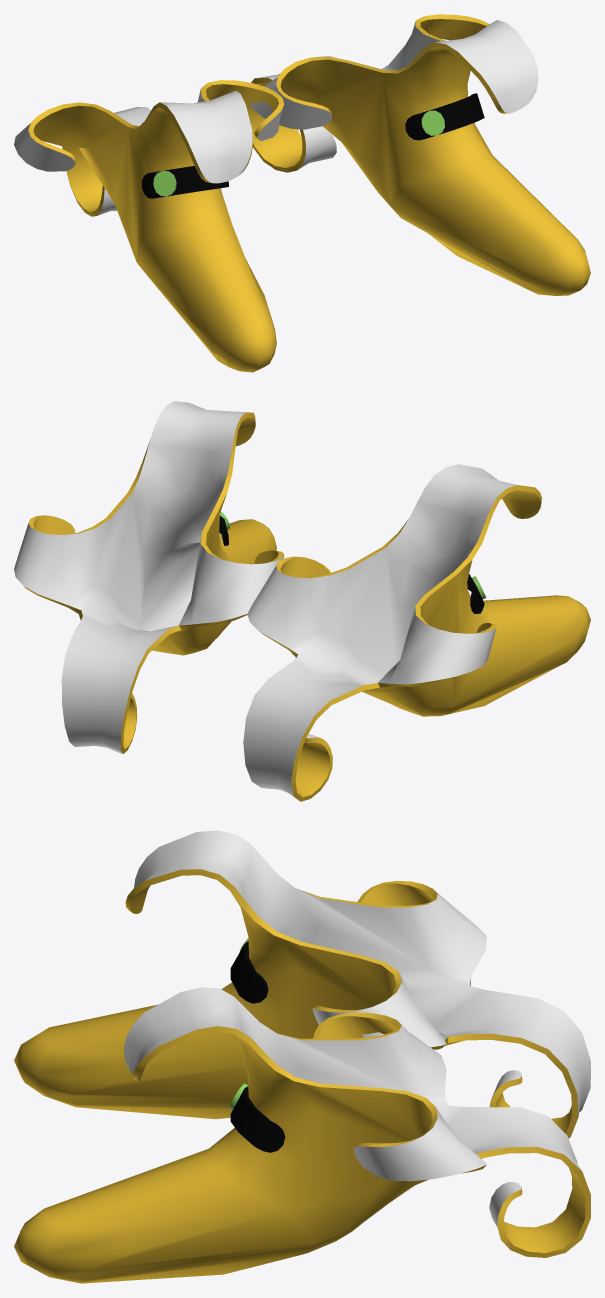
The model's file is BananaShoes.fbx.
3 views of the same model, one above another, from view 1: azimuth 30°, elevation 25°; view 2: azimuth 150°, elevation 25°; view 3: azimuth 270°, elevation 25° (orthographic). The views are drawn at different scales.
Parts seen in each view (by area): view 1: Shoe.001|Shoe|Dupli|, Shoe.002|Shoe|Dupli|, Shoe.001|Shoelace|Dupli|1, Shoe.002|Shoelace|Dupli|1, Shoe.002|Button|Dupli|2, Shoe.001|Button|Dupli|2; view 2: Shoe.002|Shoe|Dupli|, Shoe.001|Shoe|Dupli|; view 3: Shoe.001|Shoe|Dupli|, Shoe.002|Shoe|Dupli|, Shoe.001|Shoelace|Dupli|1, Shoe.002|Shoelace|Dupli|1.
Boxes of the visible parts, <box> form: Shoe.001|Shoe|Dupli|: <box>246,14,590,295</box>; Shoe.002|Shoe|Dupli|: <box>14,80,284,372</box>; Shoe.001|Shoelace|Dupli|1: <box>405,93,484,140</box>; Shoe.002|Shoelace|Dupli|1: <box>142,166,228,198</box>; Shoe.002|Button|Dupli|2: <box>153,170,176,196</box>; Shoe.001|Button|Dupli|2: <box>421,110,444,135</box>; Shoe.002|Shoe|Dupli|: <box>243,464,590,801</box>; Shoe.001|Shoe|Dupli|: <box>14,401,284,754</box>; Shoe.001|Shoe|Dupli|: <box>14,987,590,1283</box>; Shoe.002|Shoe|Dupli|: <box>14,830,590,1138</box>; Shoe.001|Shoelace|Dupli|1: <box>230,1086,285,1152</box>; Shoe.002|Shoelace|Dupli|1: <box>230,941,268,1003</box>.
Bounding box in the file's own units: 1011 × 468 × 931.
